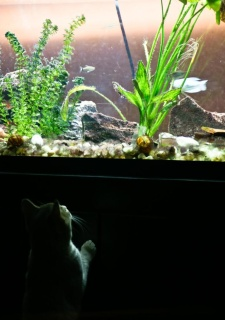Cat: (20, 199, 96, 317)
